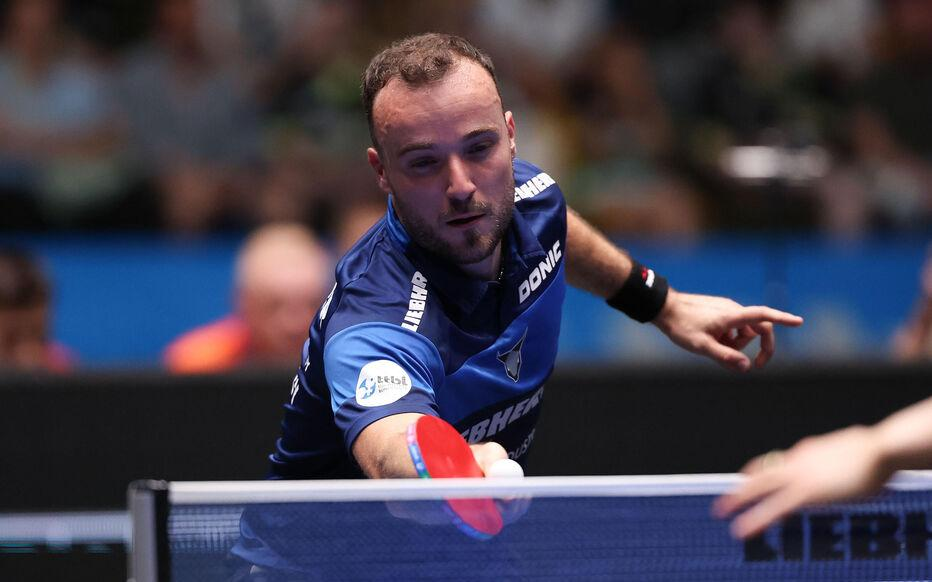ball_pingpong: (486, 458, 527, 500)
